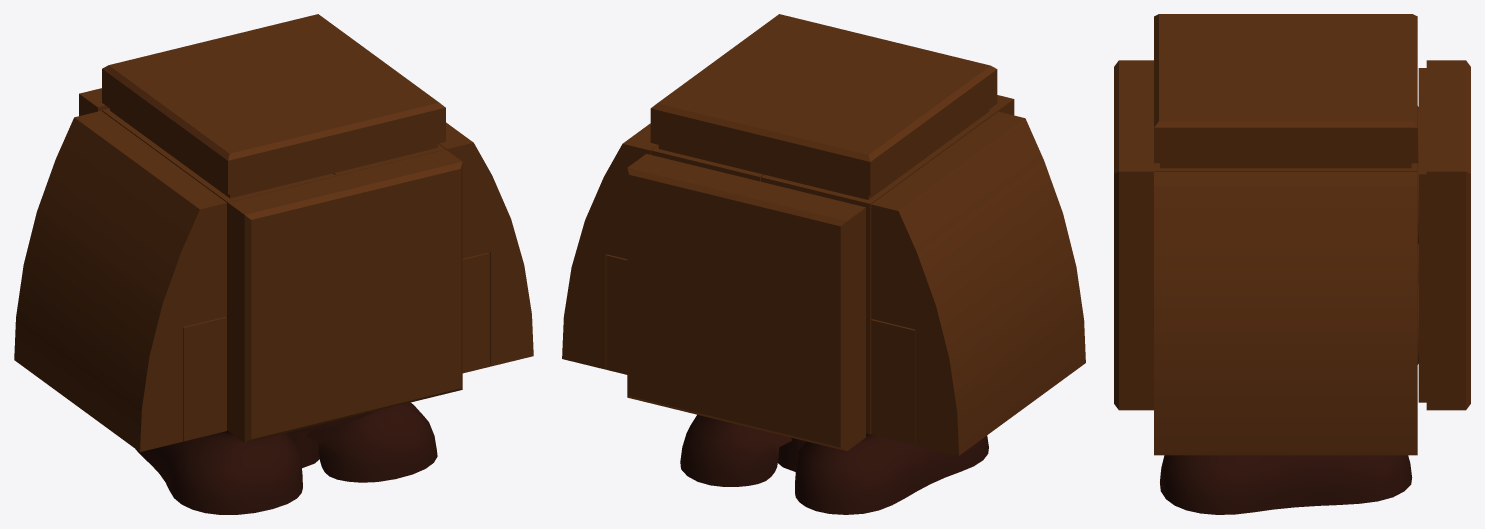
The model's file is GoombaModel.fbx.
3 views of the same model, side by side, from view 1: azimuth 30°, elevation 25°; view 2: azimuth 150°, elevation 25°; view 3: azimuth 270°, elevation 25° (orthographic). The views are drawn at different scales.
Parts seen in each view (by area): view 1: part, part.008, part.004, part.001, part.009, part.007, part.006, part.002; view 2: part.005, part.008, part.004, part.001, part.009, part.007, part.002, part.006, part.003; view 3: part.009, part.004, part.005, part, part.001, part.003.
Boxes of the visible parts, box(x1,y1,x2,y2) form: part: box(226, 149, 462, 442); part.008: box(14, 111, 226, 451); part.004: box(102, 14, 445, 198); part.001: box(135, 402, 437, 514); part.009: box(438, 122, 533, 366); part.007: box(183, 316, 226, 441); part.006: box(462, 252, 489, 373); part.002: box(102, 108, 335, 430); part.005: box(627, 154, 865, 450); part.008: box(871, 111, 1085, 455); part.004: box(650, 14, 997, 199); part.001: box(680, 414, 988, 514); part.009: box(562, 123, 657, 369); part.007: box(871, 319, 915, 444); part.002: box(761, 109, 997, 434); part.006: box(606, 254, 627, 374); part.003: box(650, 145, 763, 181); part.009: box(1154, 172, 1417, 455); part.004: box(1154, 14, 1417, 168); part.005: box(1418, 60, 1470, 410); part: box(1114, 60, 1157, 410); part.001: box(1160, 455, 1412, 514); part.003: box(1154, 162, 1418, 364).
Size of the model in its own units: 2876 by 2558 by 2156.
